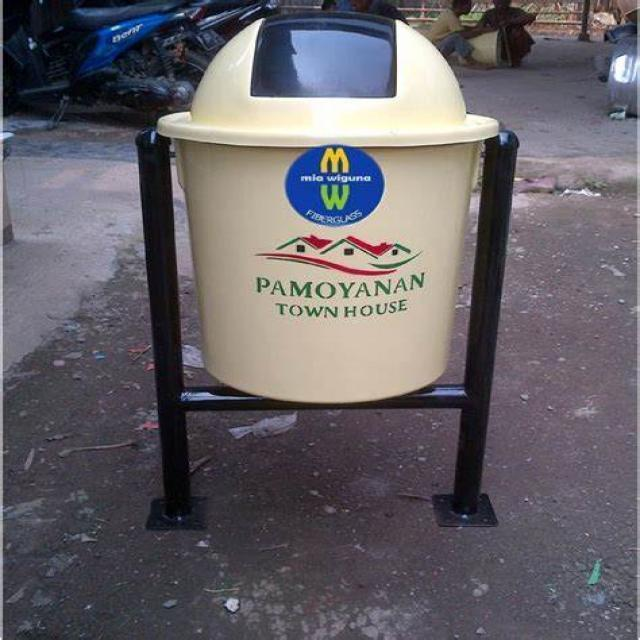garbage container: (99, 1, 613, 533)
